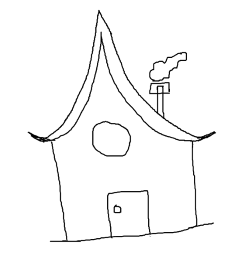door: (102, 184, 155, 243)
open_window: (91, 121, 131, 157)
roof: (27, 9, 215, 142)
smoking_chimney: (144, 44, 195, 117)
wall: (50, 140, 202, 246)
